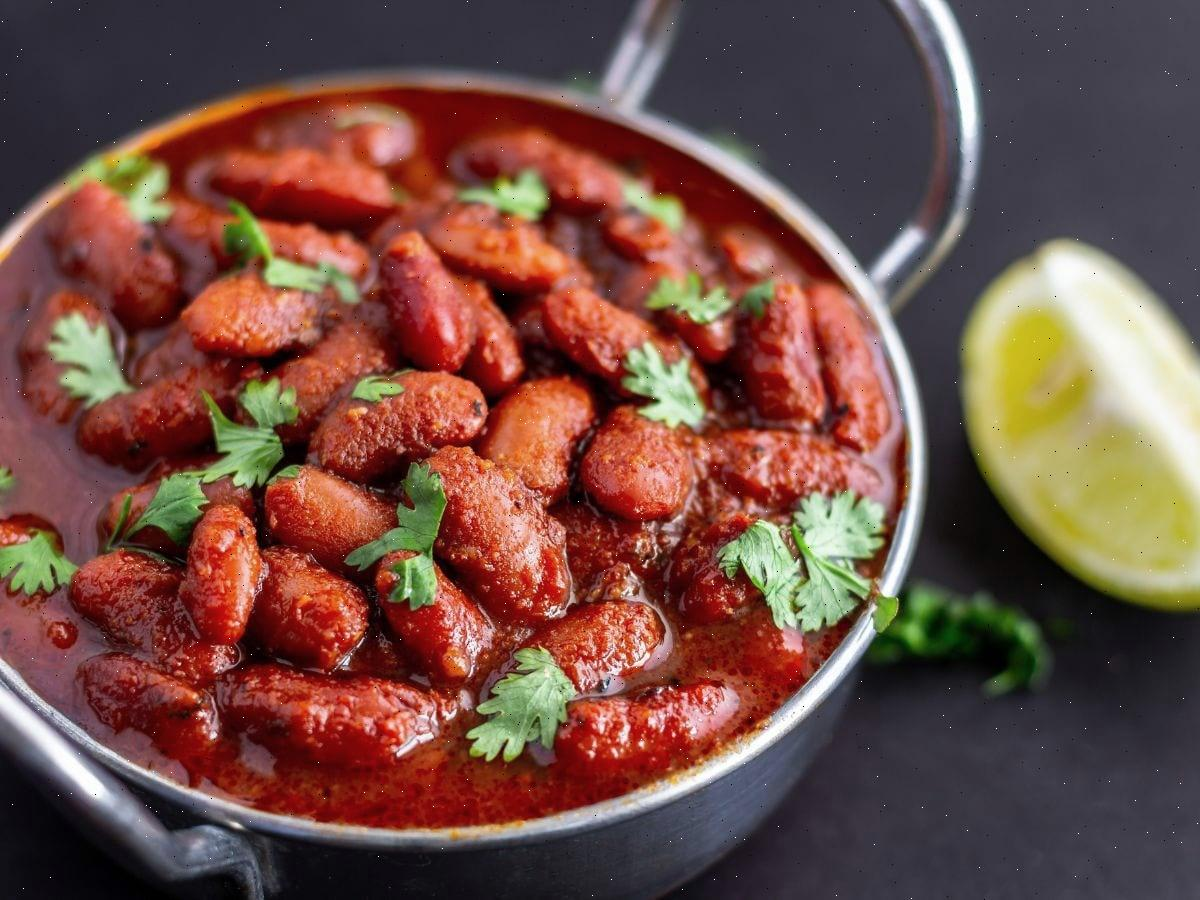rajma: (0, 100, 850, 788)
